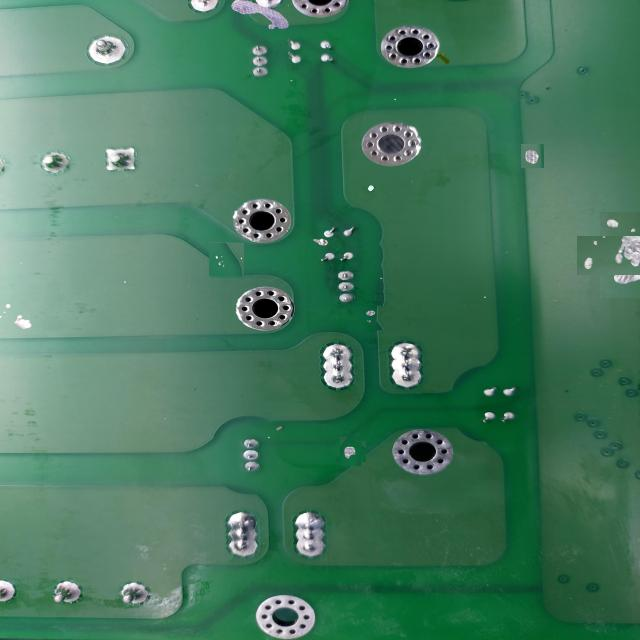spillover: (588, 223, 640, 286), (3, 293, 42, 335), (209, 243, 244, 277), (338, 439, 364, 464), (520, 143, 544, 168), (359, 306, 384, 330), (362, 178, 382, 198)
